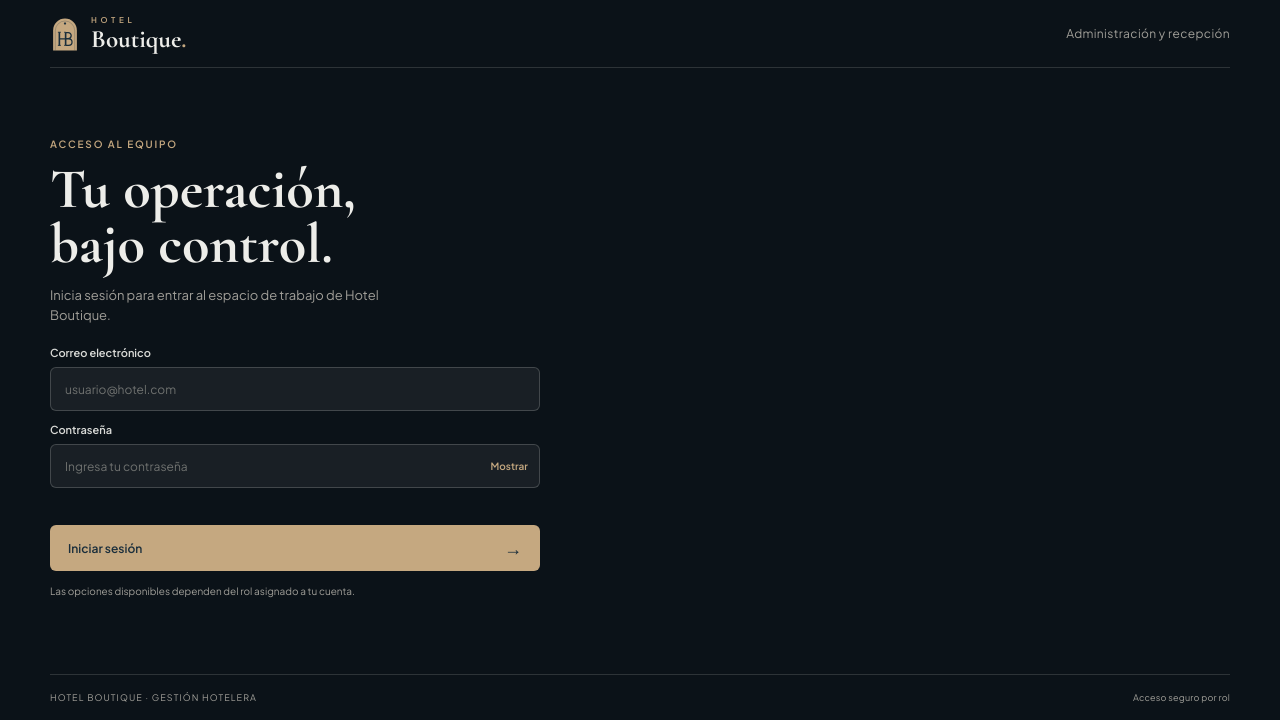
inicio de sesión › muestra campos y rechaza credenciales inválidas
Expected: the password field labelled "Contraseña" is shown, [50,444,540,488]
In the field labelled "Correo electrónico": x=295, y=389 [50,367,540,411], type "persona@hotel.com"
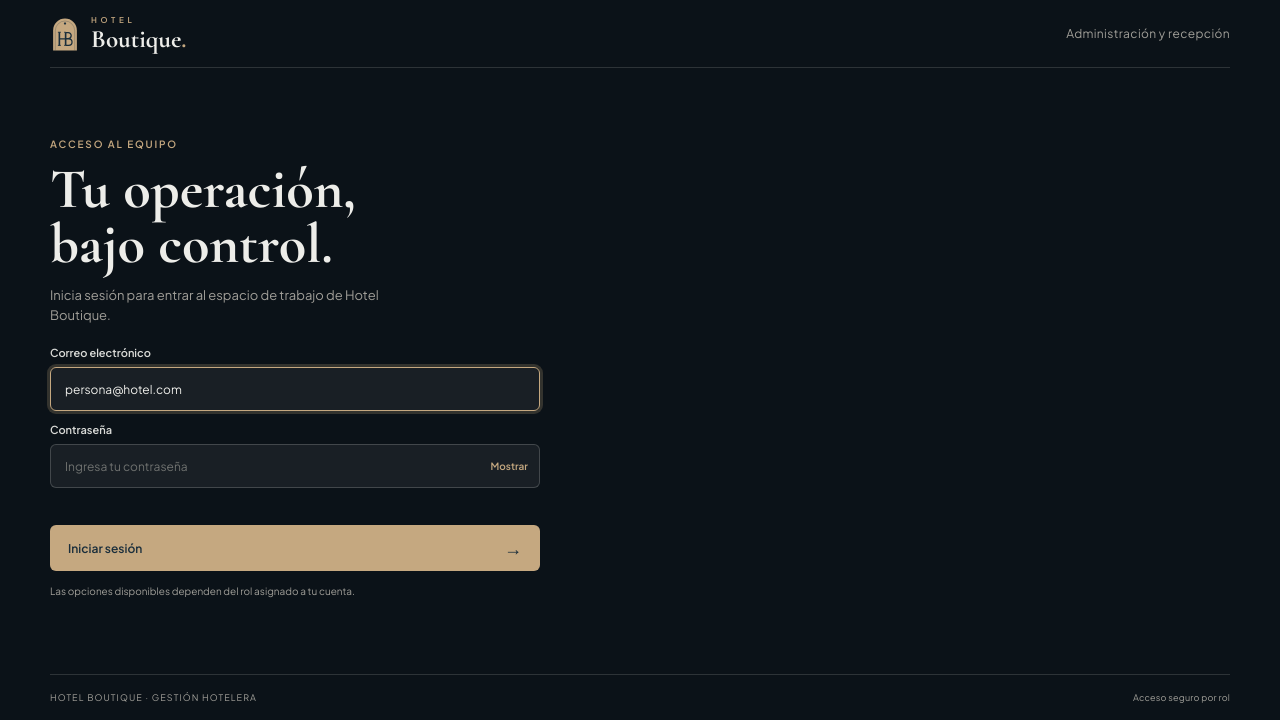
In the password field labelled "Contraseña": x=295, y=466 [50,444,540,488], type "incorrecta"
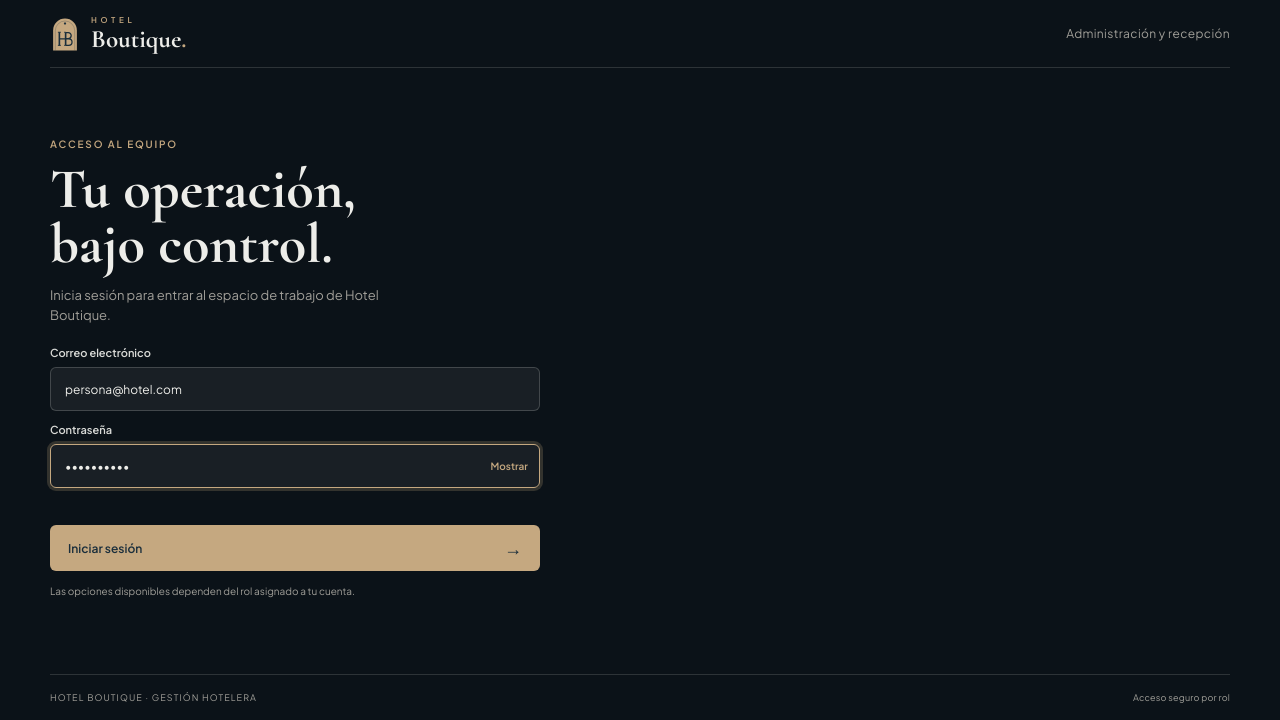
Click the button "Iniciar sesión →": x=105, y=548 [50,525,540,571]
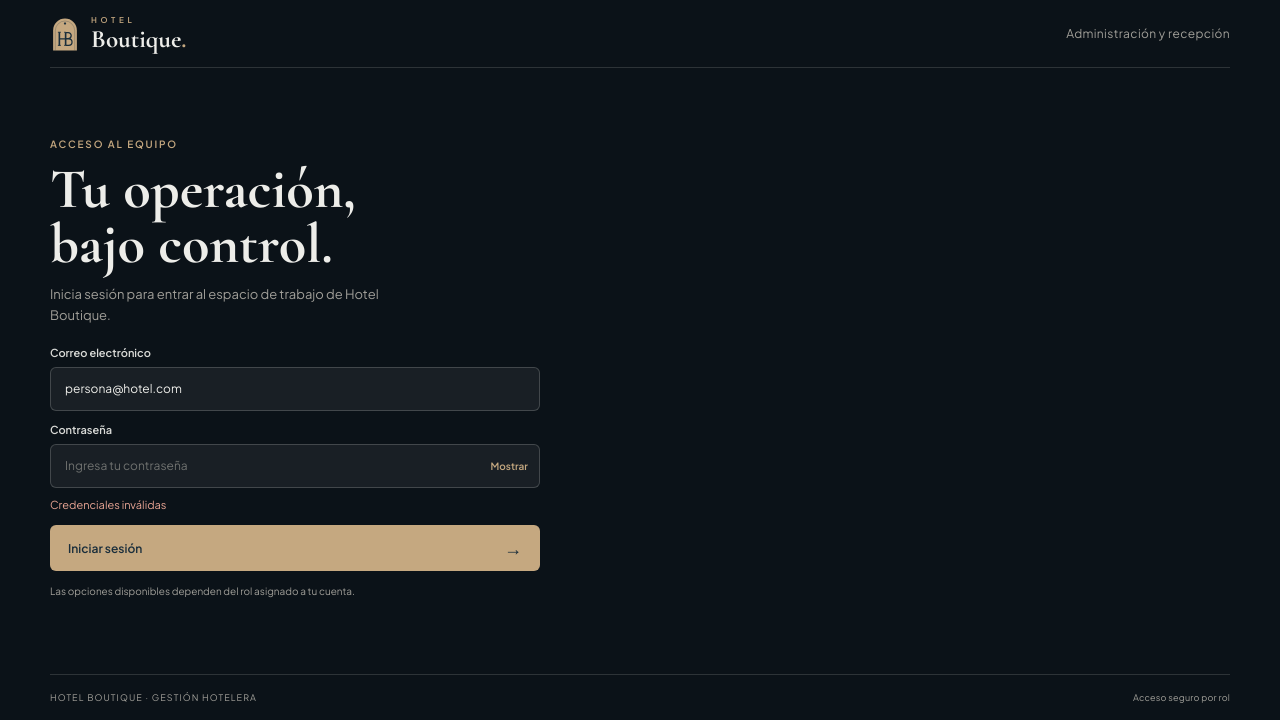
Expected: the text "Credenciales inválidas" is shown, [50,498,166,511]
